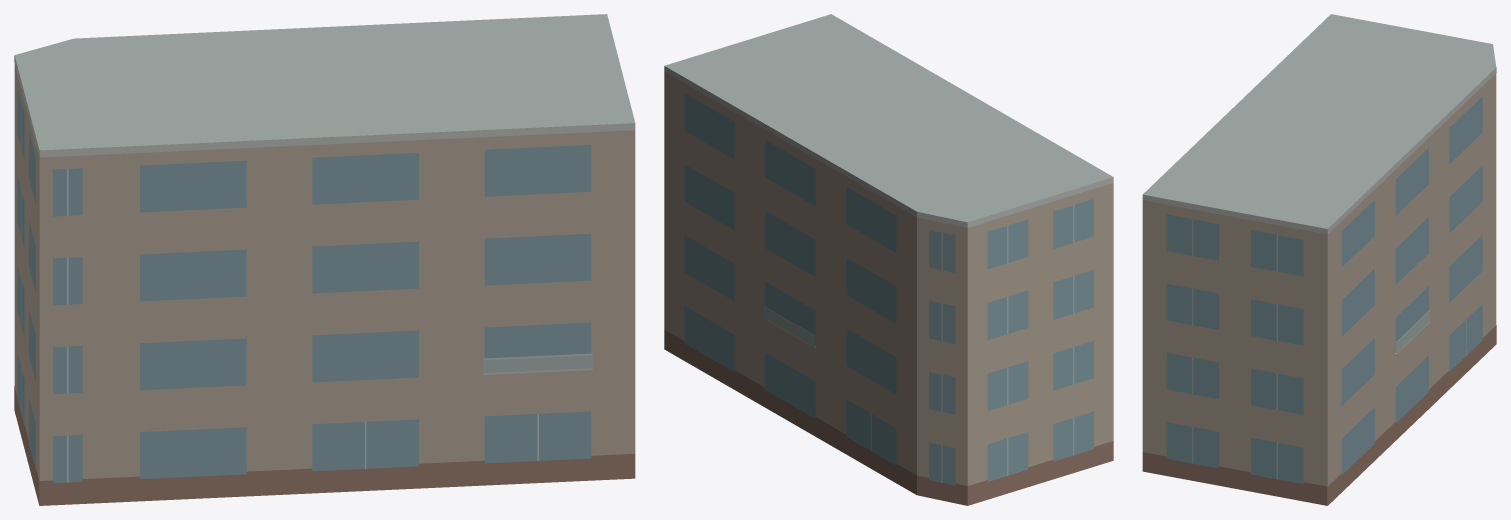
Rendered from residential-ea7d47fd-d154-434b-85b5-a9b89920349d.glb.
The picture shows the model from 3 angles, left to right: view 1: azimuth 30°, elevation 25°; view 2: azimuth 150°, elevation 25°; view 3: azimuth 270°, elevation 25°; orthographic projection. The views are drawn at different scales.
Visible parts, largest first — view 1: residential-ea7d47fd-d154-434b-85b5-a9b89920349d.tmp; view 2: residential-ea7d47fd-d154-434b-85b5-a9b89920349d.tmp; view 3: residential-ea7d47fd-d154-434b-85b5-a9b89920349d.tmp.
Boxes of the visible parts, box(x1,y1,x2,y2) form: residential-ea7d47fd-d154-434b-85b5-a9b89920349d.tmp: box(14, 14, 635, 505); residential-ea7d47fd-d154-434b-85b5-a9b89920349d.tmp: box(664, 14, 1113, 505); residential-ea7d47fd-d154-434b-85b5-a9b89920349d.tmp: box(1142, 14, 1496, 505).
Bounding box in the file's own units: 20.33 × 12.2 × 14.14.
